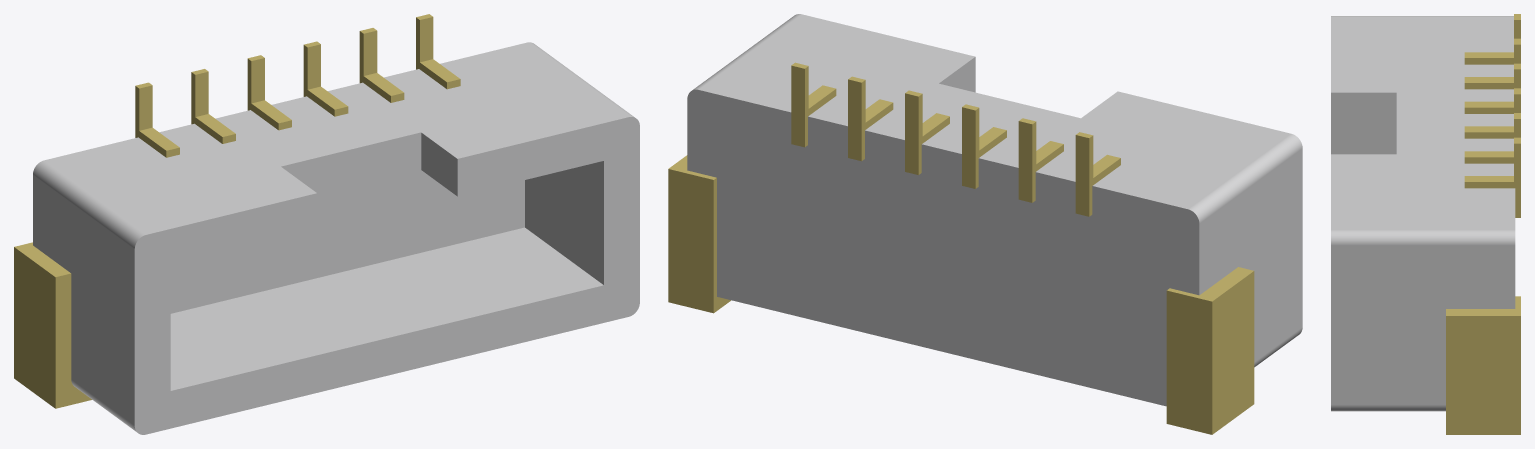
File: jst_gh_6pin.glb
3 views of the same model, side by side, from view 1: azimuth 30°, elevation 25°; view 2: azimuth 150°, elevation 25°; view 3: azimuth 270°, elevation 25° (orthographic). The views are drawn at different scales.
Parts seen in each view (by area): view 1: world; view 2: world; view 3: world.
Part boxes in pixels (x1,y1,x2,y2): world: (14,14,639,434); world: (668,14,1302,434); world: (1331,14,1520,434).
Size of the model in its own units: 11.95 by 5.6 by 4.05.
